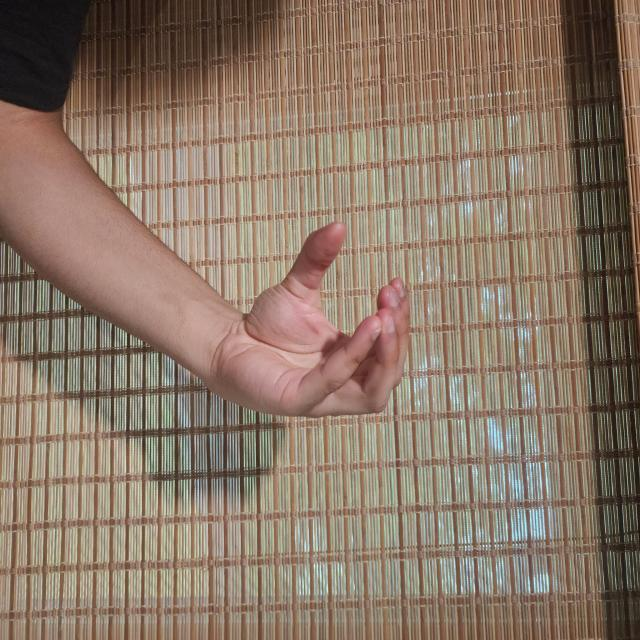C: (321, 300, 478, 579)
